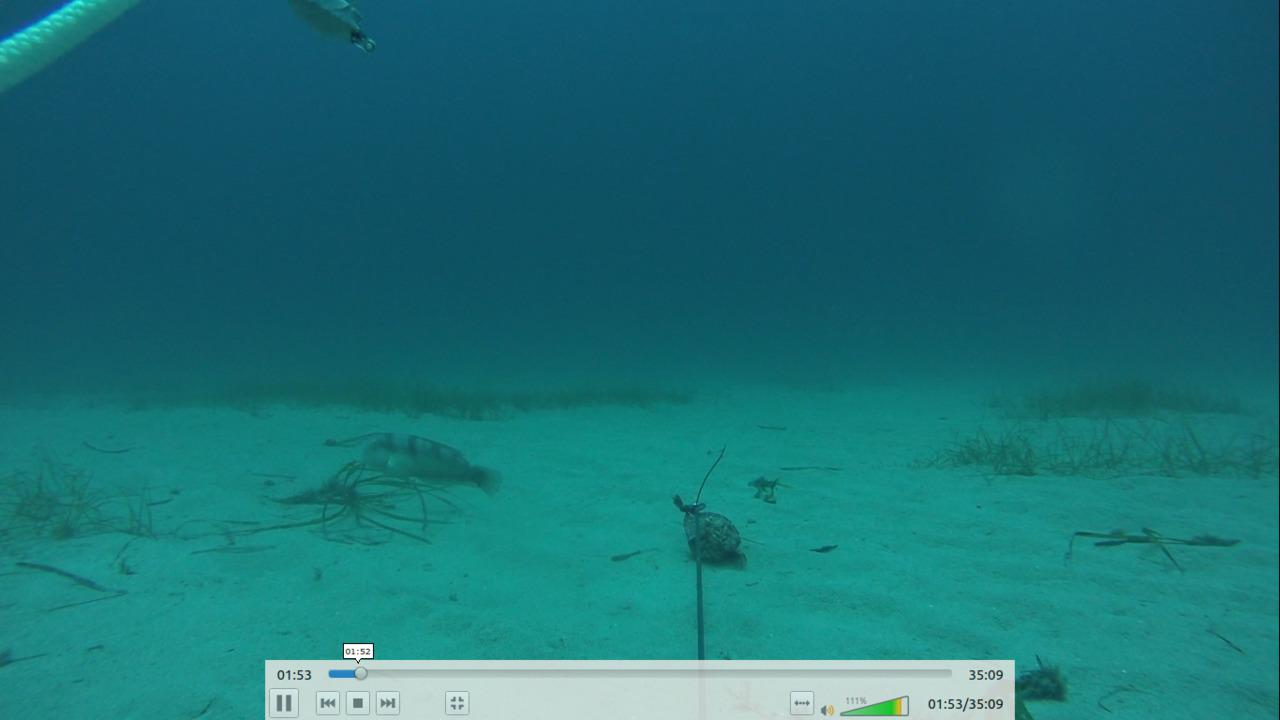raor: (358, 429, 502, 497)
